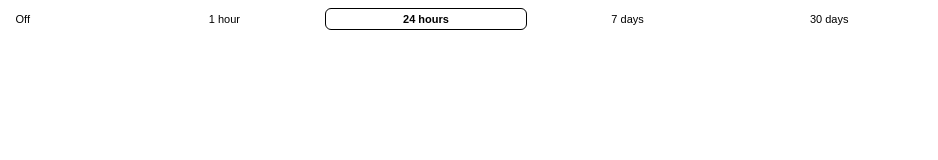
Scenario: MessageExpirationEditor › drops the staged choice when DISCARD is pressed
What coordinates should you click on to do the following:
click the button "1 hour"
I would click on:
 (224, 19)
Its box is x1=124 y1=8 x2=325 y2=30.
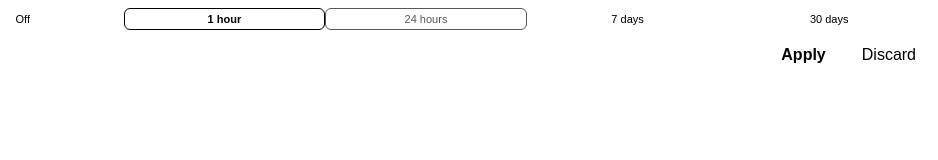
Now the button "Discard" is shown
What coordinates should you click on to do the following:
click the button "Discard"
I would click on:
 (889, 55)
Its box is x1=848 y1=40 x2=930 y2=70.
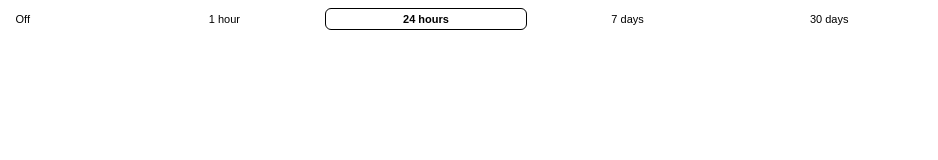
Now the button "Discard" is gone
Now the button "Apply" is gone
